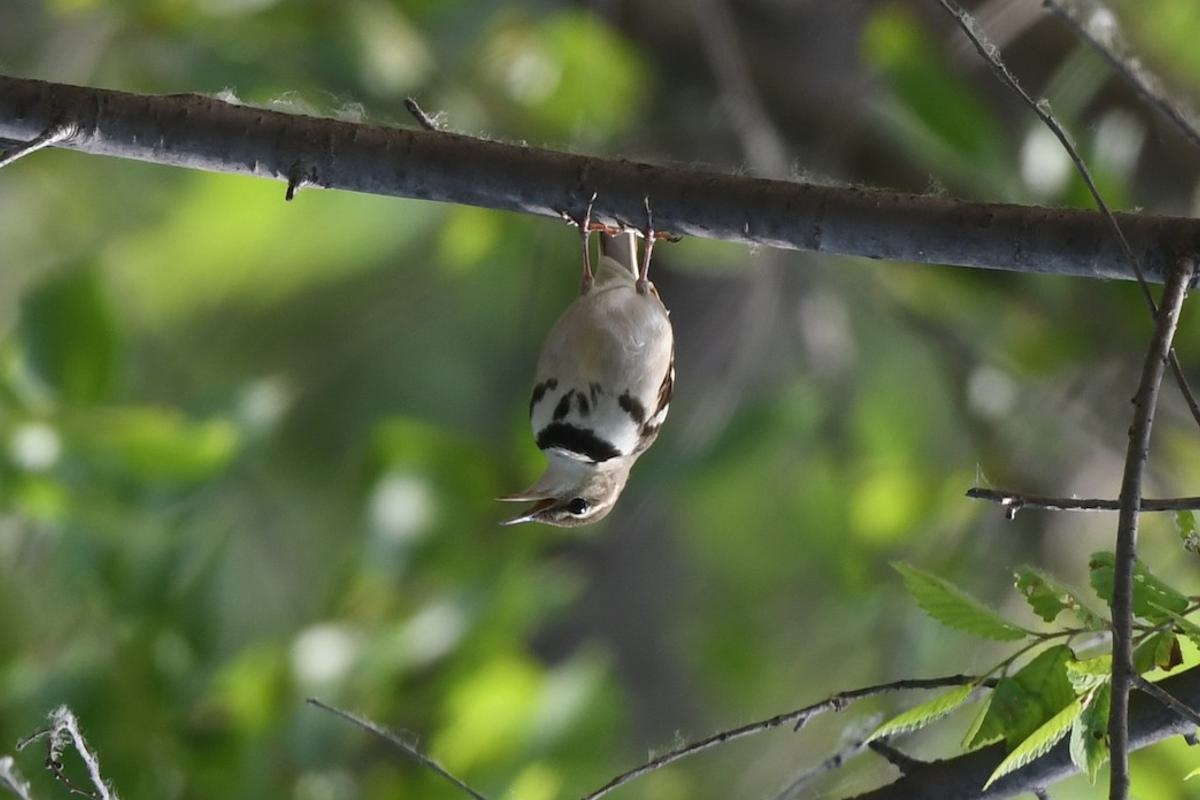wagtail: (476, 176, 727, 564)
